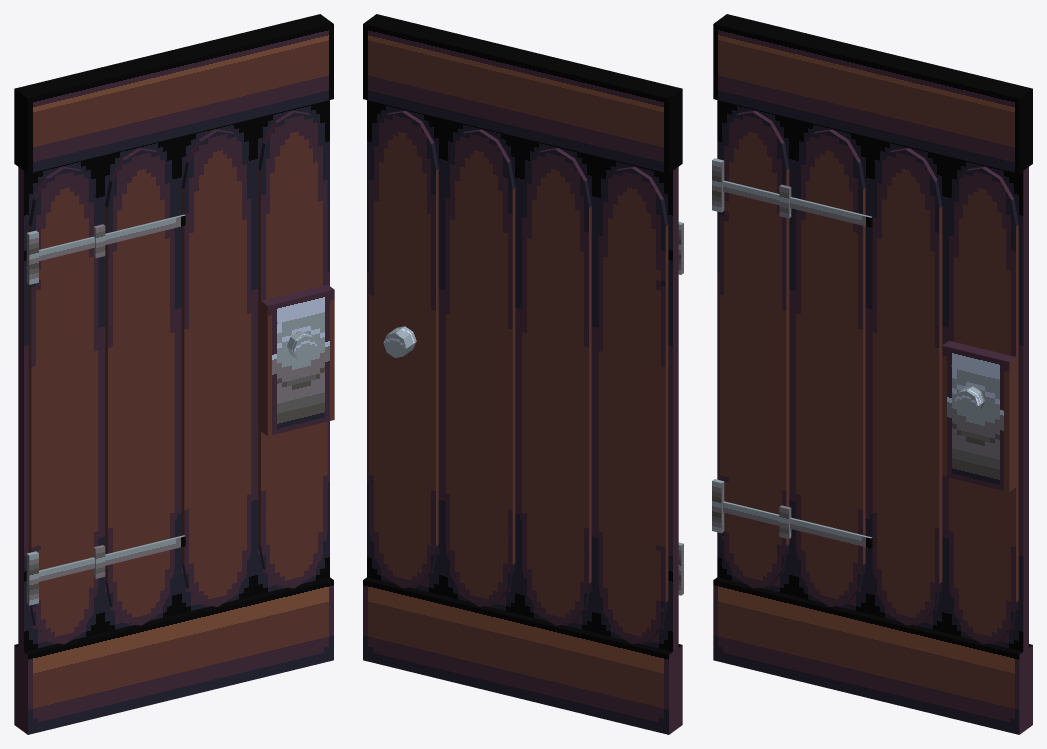
File: door_attic.glb
3 renders of one model, left to right at view 1: azimuth 30°, elevation 25°; view 2: azimuth 150°, elevation 25°; view 3: azimuth 330°, elevation 25°, orthographic.
Visible parts, largest first — view 1: leaf; view 2: leaf; view 3: leaf.
Part boxes in pixels (x1,y1,x2,y2): leaf: [14, 14, 334, 734]; leaf: [363, 14, 683, 734]; leaf: [712, 14, 1032, 734].
Size of the model in its own units: 0.78 by 1.55 by 0.152.
1 material, 1 textured.
